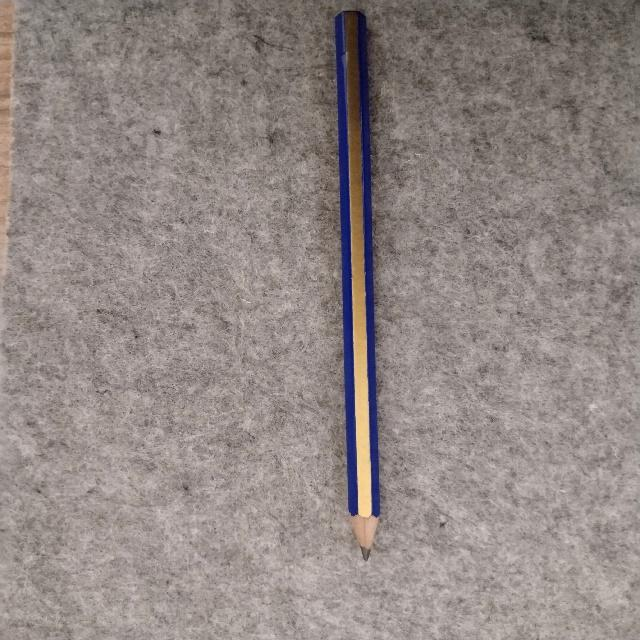pencil: (335, 11, 379, 559)
